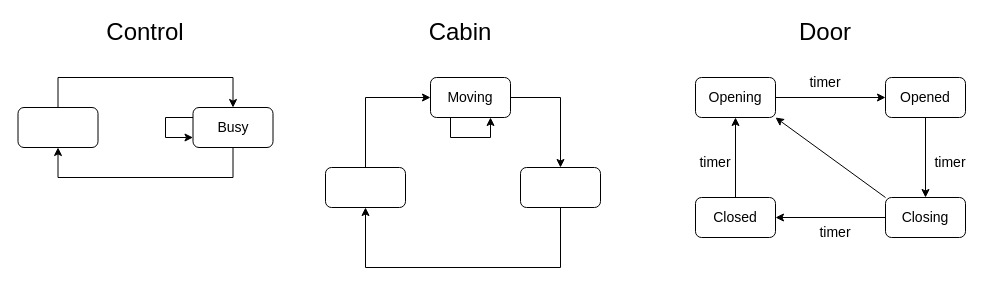
Some shapes in this 997 by 293 pixel diagram are drawn without their labels. The centre of each missing label's shape, as x and y in pixels:
Free: point 57,127
Ready: point 365,187
Staying: point 560,187
